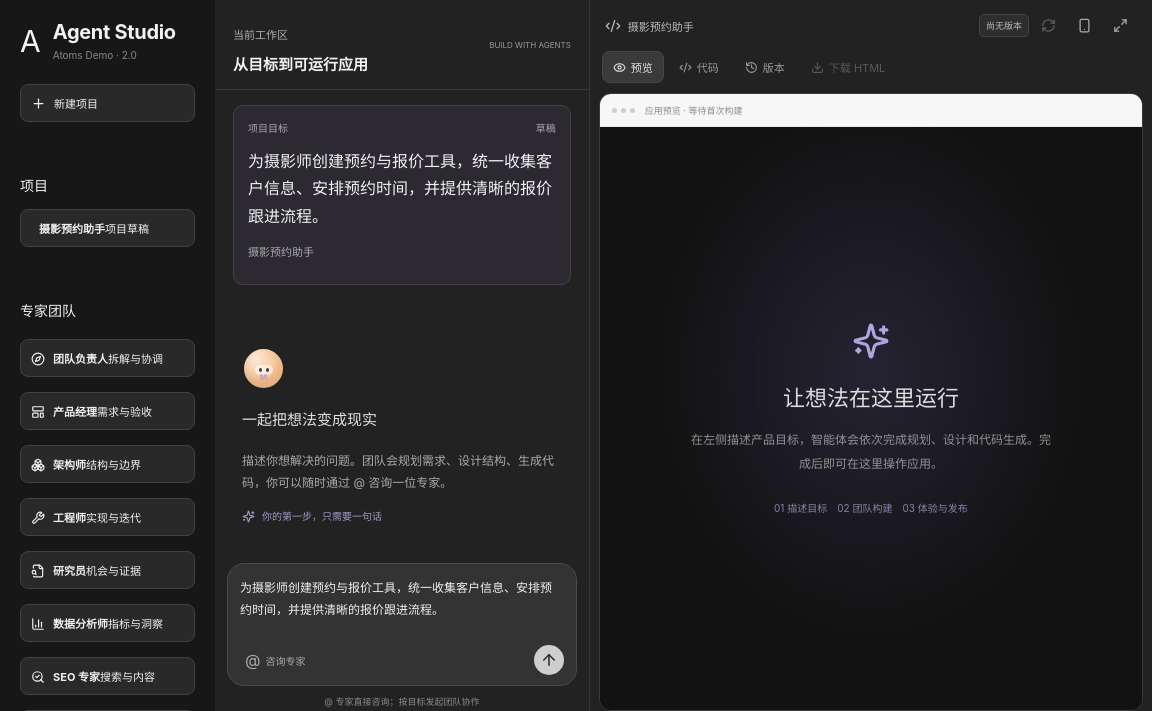
Test: WorkspaceShell › creates a named project and switches the active workspace
Expected: the heading "摄影预约助手" is shown, [605, 18, 694, 34]
Click the button "新建项目" at (108, 103), box [20, 84, 195, 122]
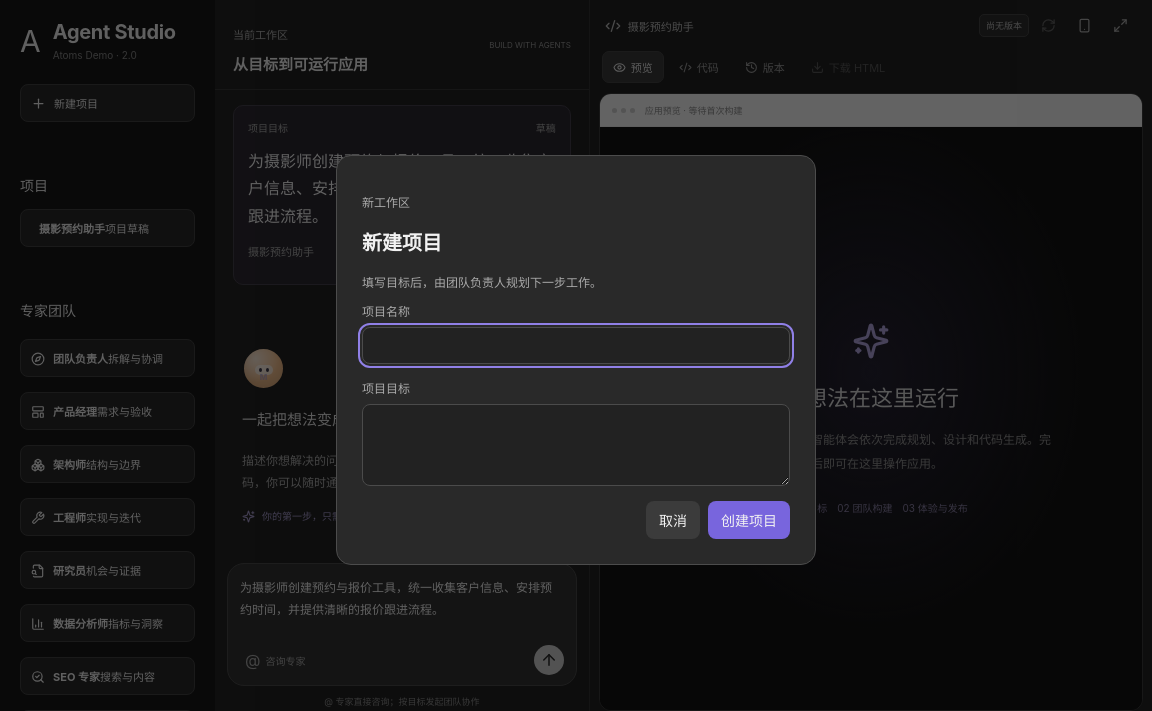
Type "婚礼摄影管家" into the field labelled "项目名称" at (576, 345), box [362, 327, 790, 364]
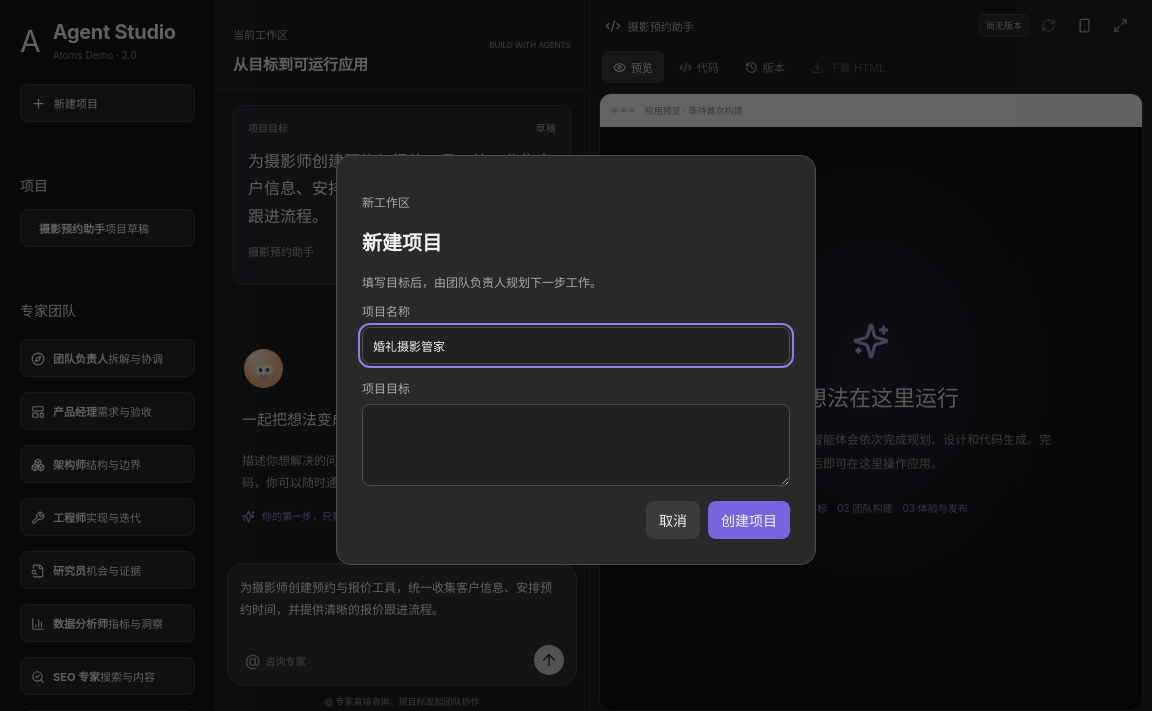
Type "为婚礼摄影团队统一安排档期、报价与客户跟进。" into the text box labelled "项目目标" at (576, 445), box [362, 404, 790, 486]
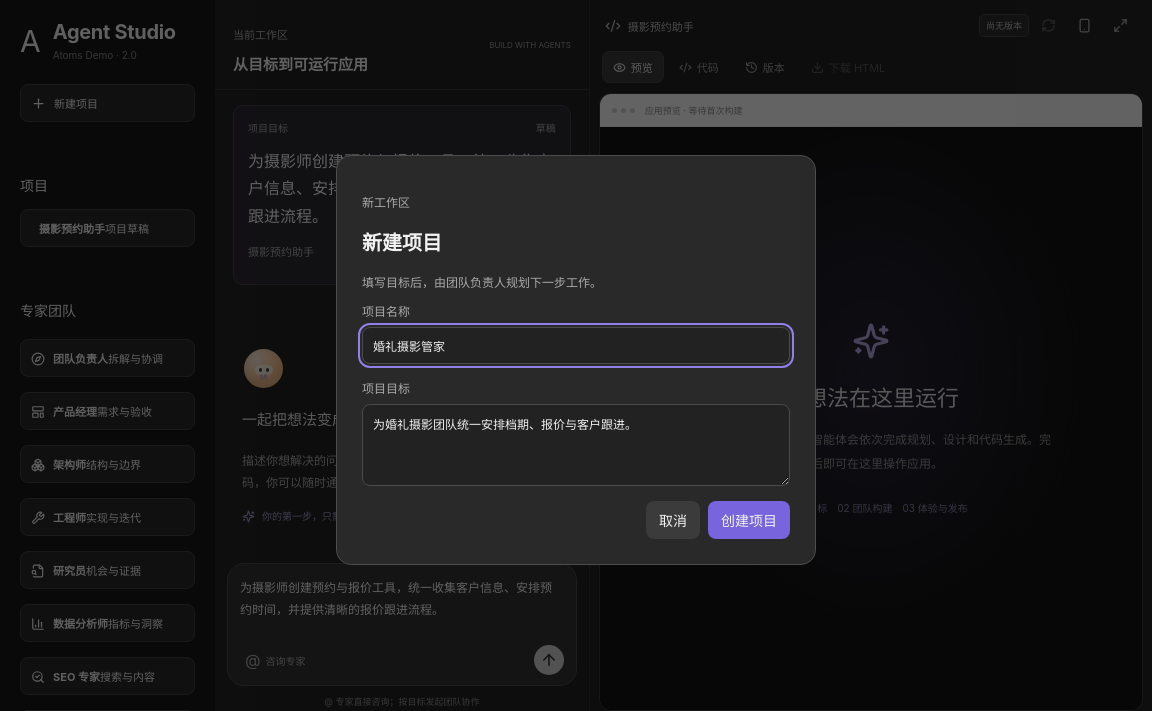
Click the button "创建项目" at (749, 520), box [708, 501, 790, 539]
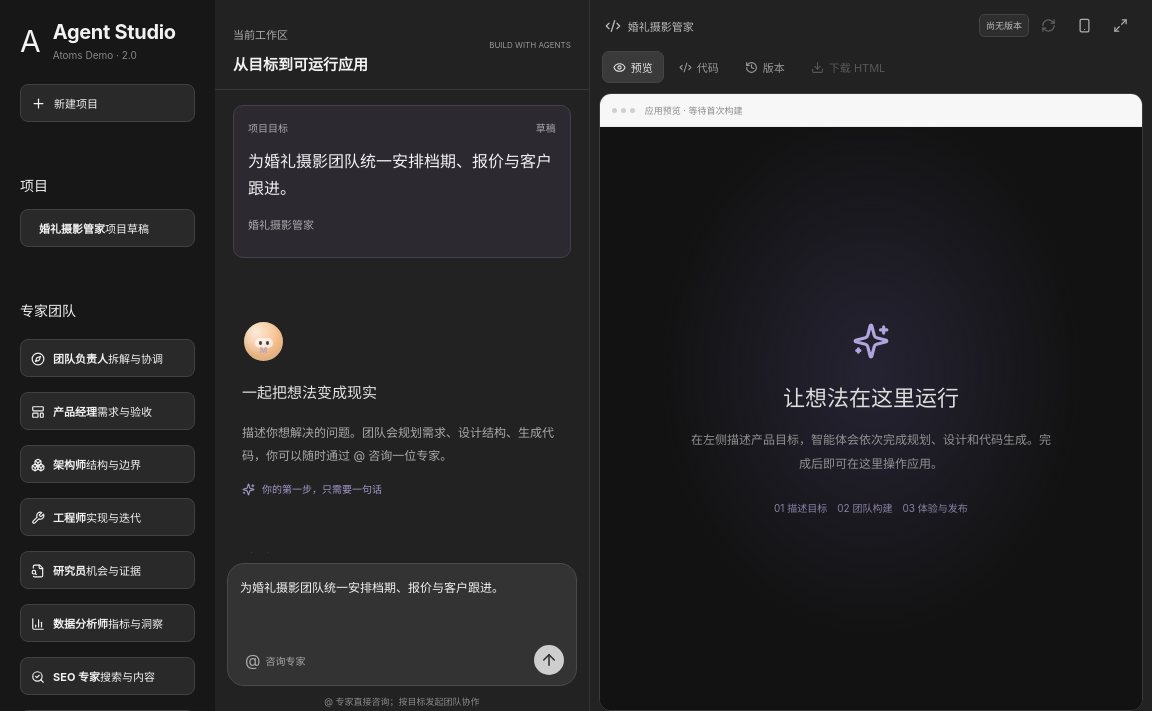
Now the heading "婚礼摄影管家" is shown, box [605, 18, 694, 34]
